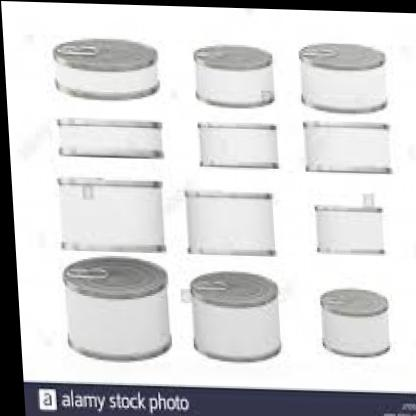Metal: (23, 25, 416, 372)
